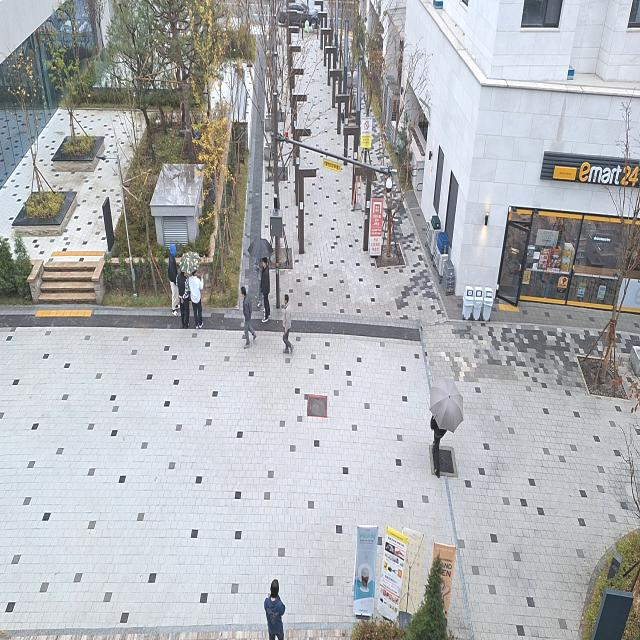Car: (266, 0, 326, 28)
